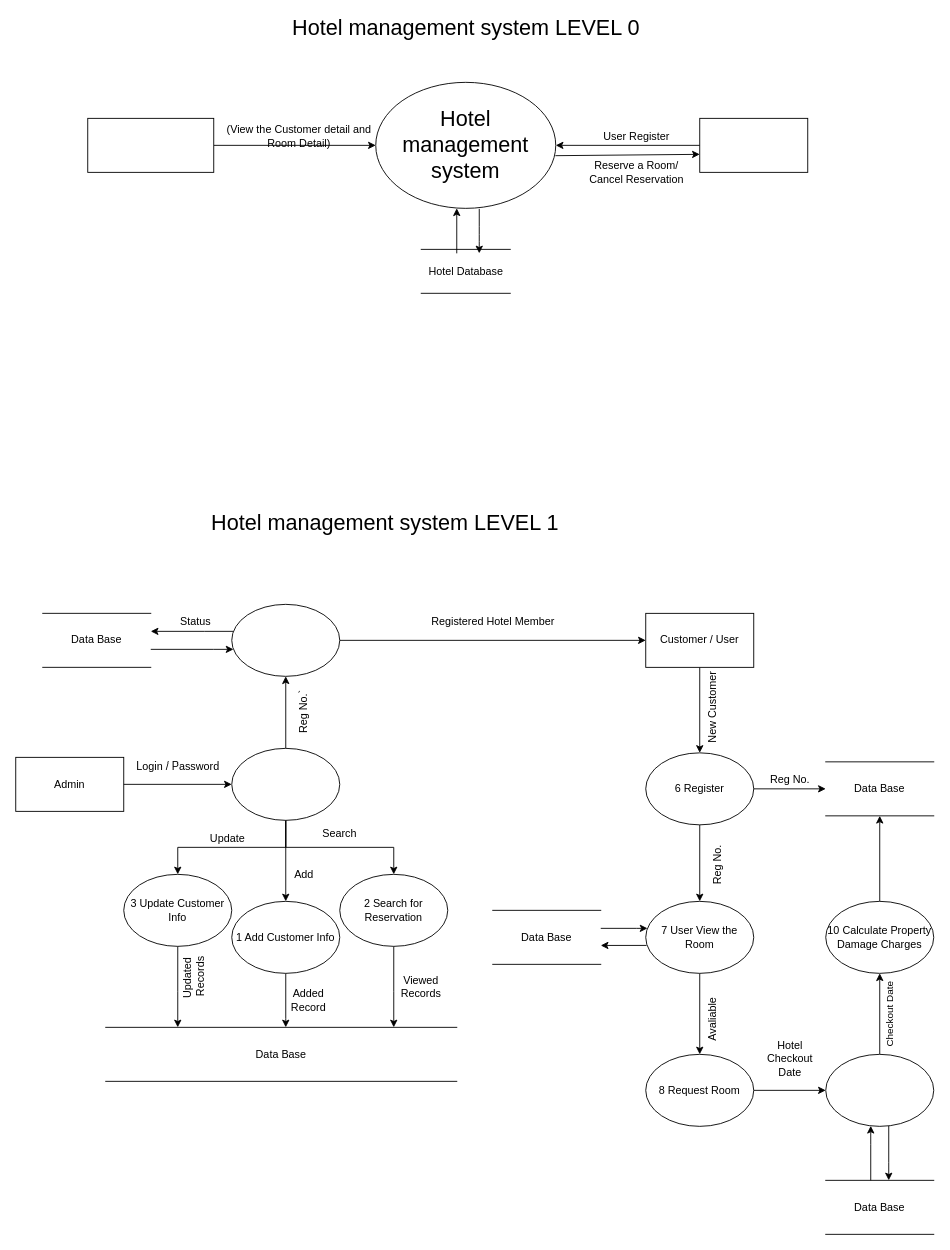
This 950x1250 diagram has some shape labels left out. The centre of each missing label's shape, as x and y in pixels:
"4 Cancel Reservation" belongs at point 285,639.
"9 Return Room Keys" belongs at point 879,1089.
"Administrator" belongs at point 150,144.
"Login" belongs at point 285,783.
"User / Customer" belongs at point 753,144.
